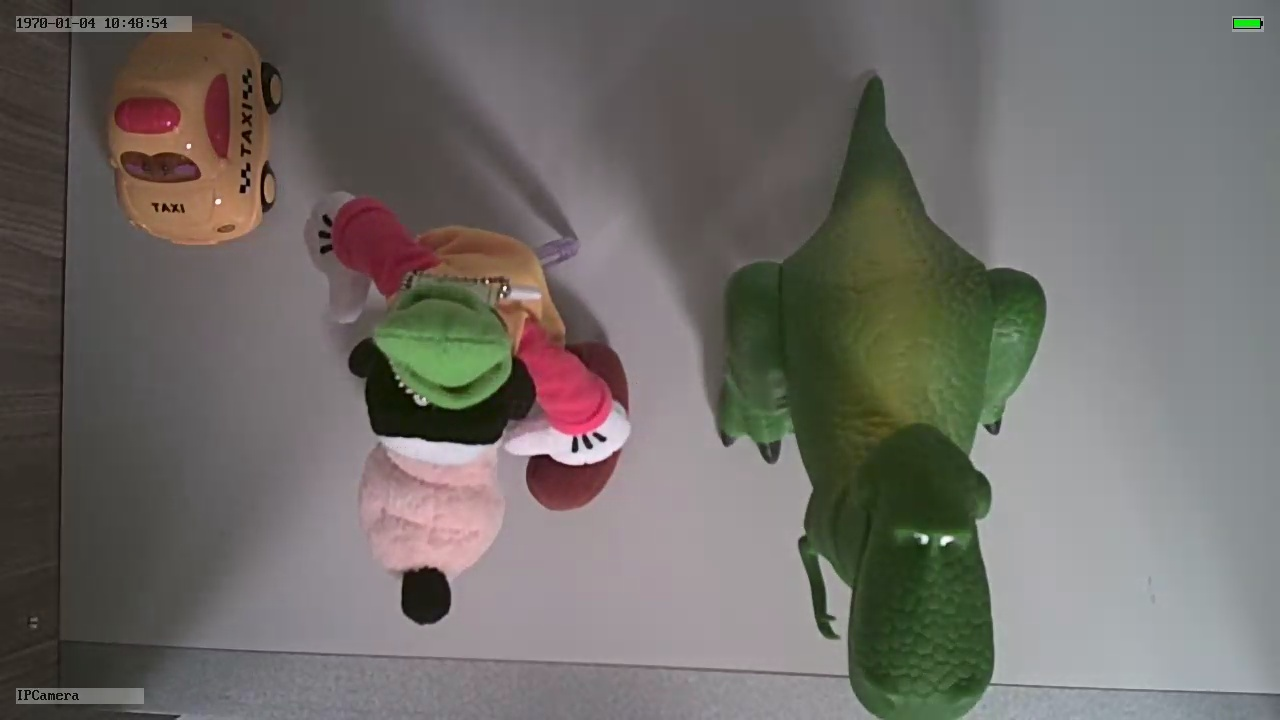car: (105, 20, 282, 246)
goofy: (297, 190, 637, 624)
rex: (718, 151, 1046, 719)
